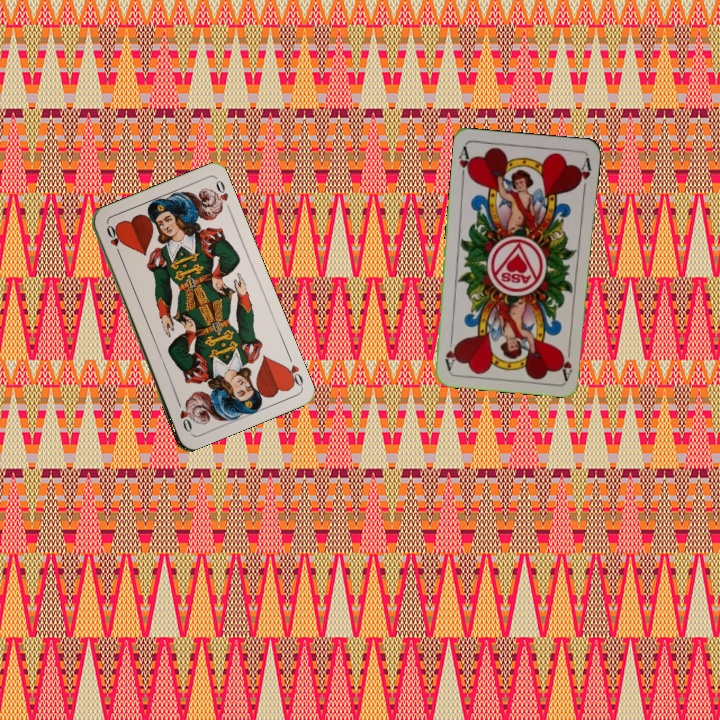HA: (455, 142, 475, 183), (557, 341, 574, 381)
HO: (280, 350, 306, 390), (102, 221, 124, 259)
